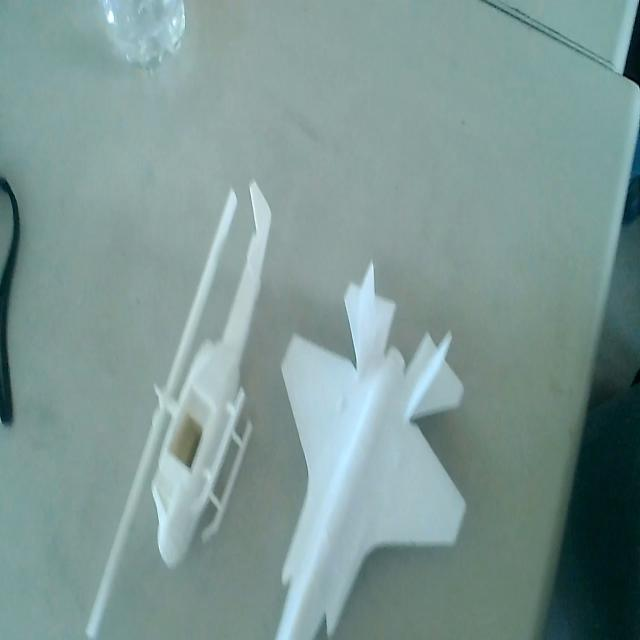Helicopter: (90, 177, 270, 640)
Jet: (276, 261, 465, 640)
